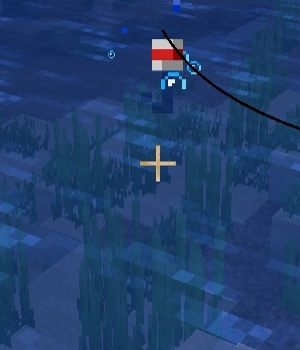up: (145, 29, 189, 115)
